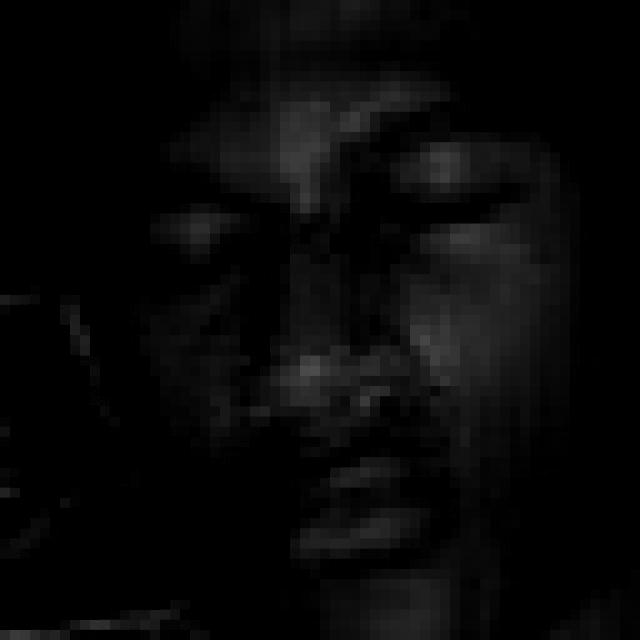real: (26, 14, 570, 626), (114, 147, 523, 303)
